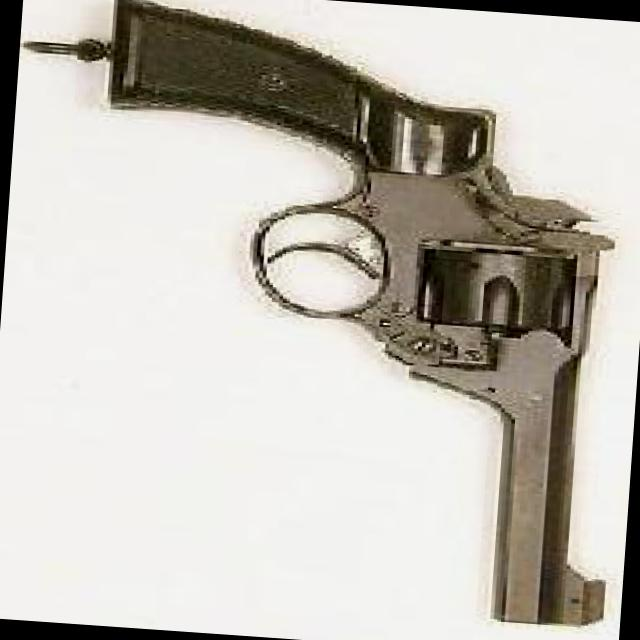handgun: (78, 0, 639, 630)
